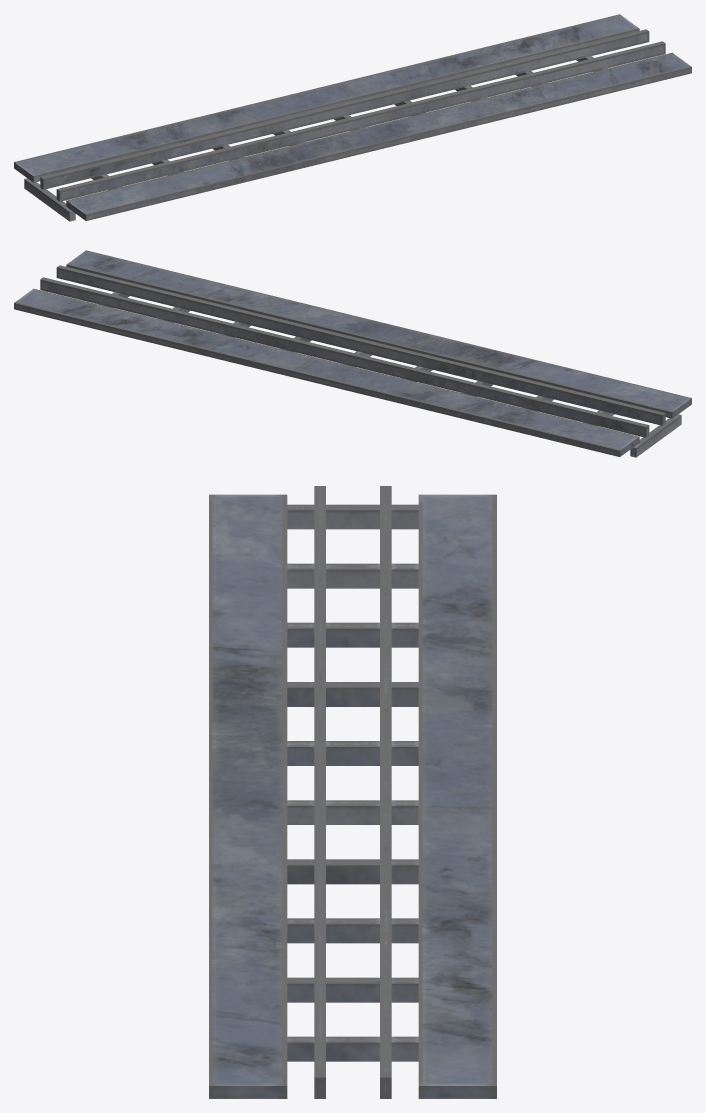
Rendered from jctRoofEquipRail.fbx.
The picture shows the model from 3 angles, top to bottom: view 1: azimuth 30°, elevation 25°; view 2: azimuth 150°, elevation 25°; view 3: azimuth 270°, elevation 25°; orthographic projection. The views are drawn at different scales.
Visible parts, largest first — view 1: jctRoofEquipRail; view 2: jctRoofEquipRail; view 3: jctRoofEquipRail.
Boxes of the visible parts, <box> form: jctRoofEquipRail: <box>14,14,691,221</box>; jctRoofEquipRail: <box>14,250,691,457</box>; jctRoofEquipRail: <box>209,486,496,1098</box>.
Size of the model in its own units: 1005 by 31.8 by 206.
